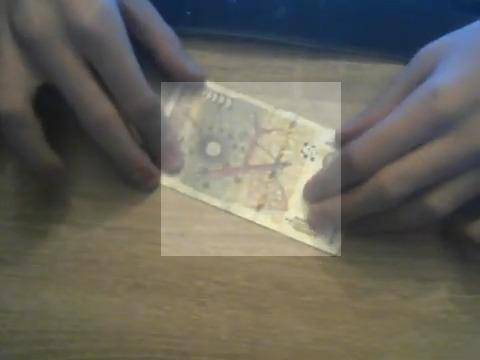10leva: (161, 82, 341, 256)
